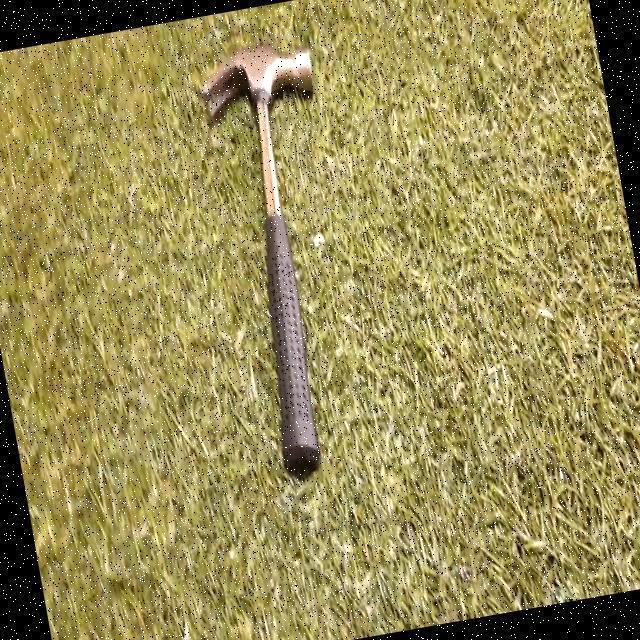hammer: (186, 41, 340, 482)
